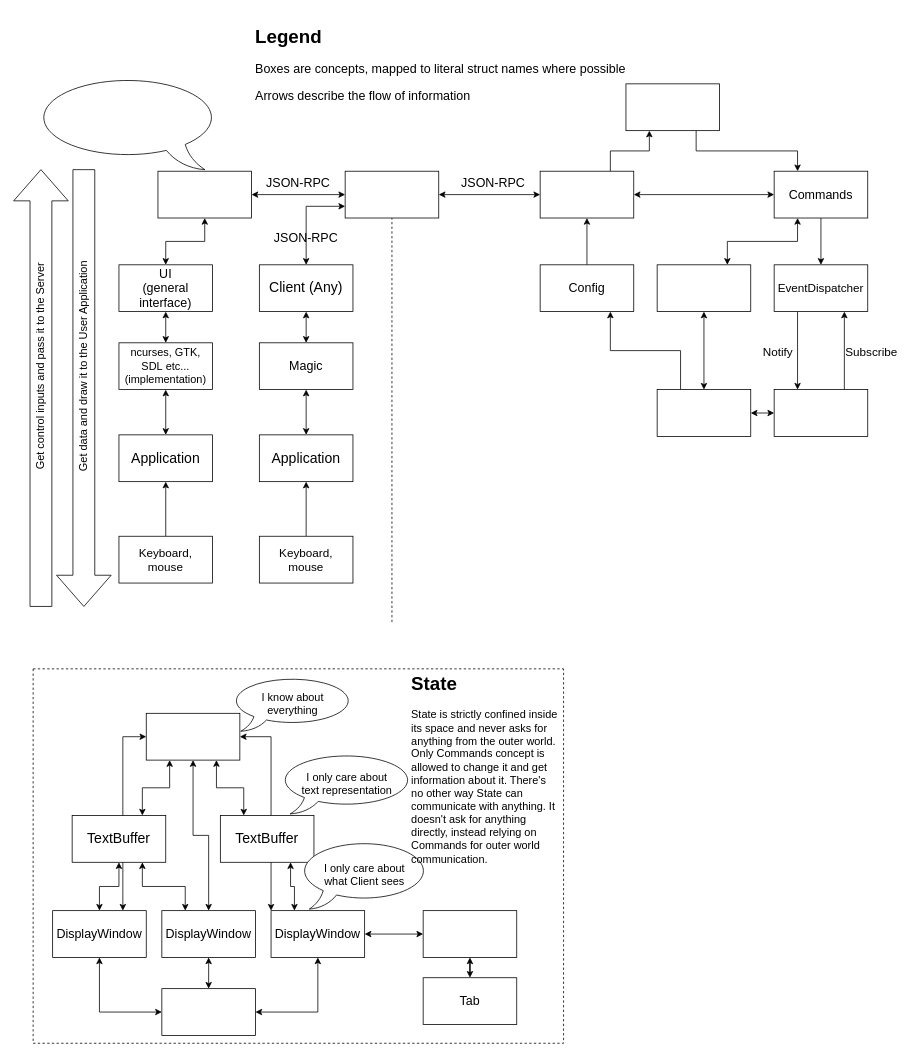
Image size: 913x1057. Some labels were removed from this diagram. Each missing label, with the box of its shape:
Client (Zig): (157, 170, 252, 218)
Extension API: (656, 389, 751, 436)
I only transmit key presses and draw on the screen what Server tells me to: (32, 75, 220, 170)
In-Memory Plugin: (773, 389, 868, 436)
Keymap: (625, 83, 720, 131)
Pane: (422, 910, 517, 957)
Server: (539, 170, 634, 218)
State: (656, 264, 751, 312)
Syntax Highlighter: (161, 988, 255, 1035)
Transport: (344, 170, 439, 218)
Workspace: (145, 713, 240, 760)
